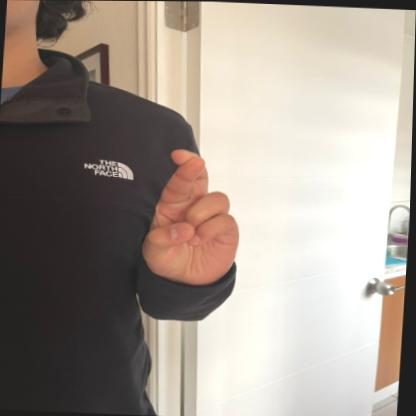R: (139, 144, 247, 288)
